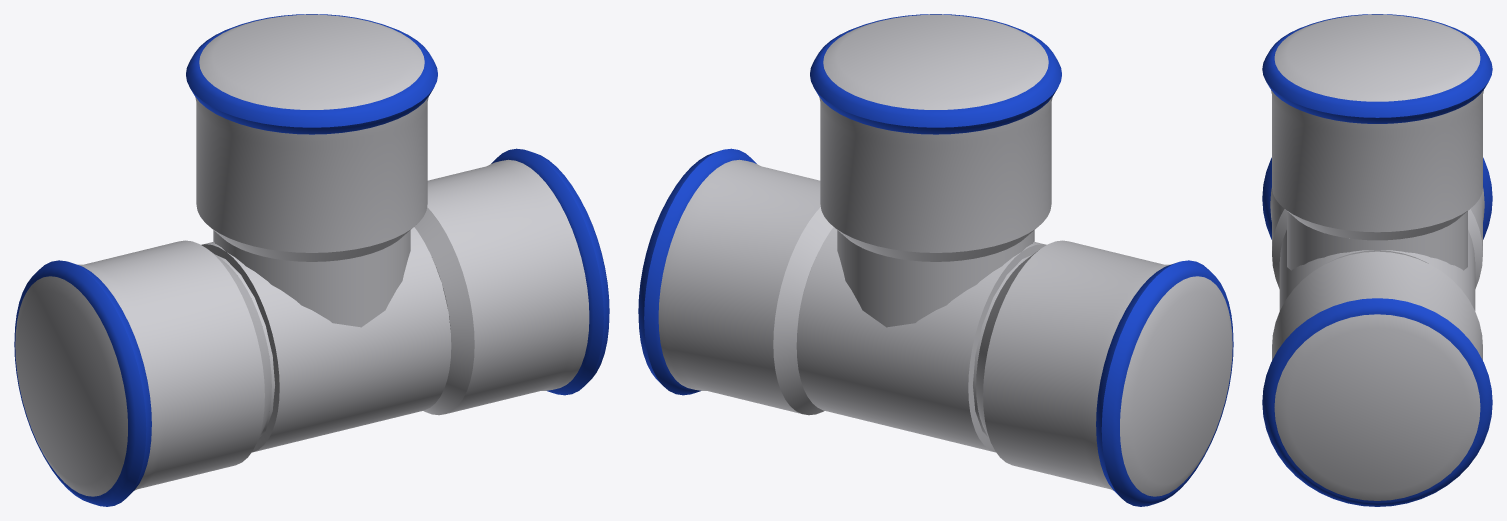
Rendered from fitting_tee_42.glb.
3 renders of one model, left to right at view 1: azimuth 30°, elevation 25°; view 2: azimuth 150°, elevation 25°; view 3: azimuth 270°, elevation 25°, orthographic. The views are drawn at different scales.
Visible parts, largest first — view 1: раструб.001, раструб.002, раструб, узел, корпус.001, кольцо пресс.001, кольцо пресс.002, кольцо пресс, корпус; view 2: раструб.001, раструб.002, раструб, узел, корпус.001, кольцо пресс.001, кольцо пресс.002, кольцо пресс, корпус; view 3: раструб, раструб.002, кольцо пресс, кольцо пресс.002, корпус.001, узел, раструб.001, кольцо пресс.001.
Boxes of the visible parts, x1,y1,x2,y2 form: раструб.001: (15,240,271,496); раструб.002: (195,14,428,261); раструб: (414,159,589,415); узел: (201,227,451,452); корпус.001: (213,230,410,327); кольцо пресс.001: (14,260,151,506); кольцо пресс.002: (186,14,437,134); кольцо пресс: (491,148,609,395); корпус: (215,254,448,436); раструб.001: (976,240,1232,496); раструб.002: (819,14,1052,261); раструб: (658,159,833,415); узел: (796,227,1046,452); корпус.001: (837,230,1034,327); кольцо пресс.001: (1096,260,1233,506); кольцо пресс.002: (810,14,1061,134); кольцо пресс: (638,148,756,395); корпус: (799,254,1032,436); раструб: (1272,251,1482,500); раструб.002: (1271,14,1483,240); кольцо пресс: (1262,298,1492,506); кольцо пресс.002: (1262,14,1492,123); корпус.001: (1287,211,1467,270); узел: (1279,230,1475,310); раструб.001: (1270,188,1484,288); кольцо пресс.001: (1262,157,1492,239).
Bounding box in the file's own units: 0.129 × 0.0966 × 0.0573.
